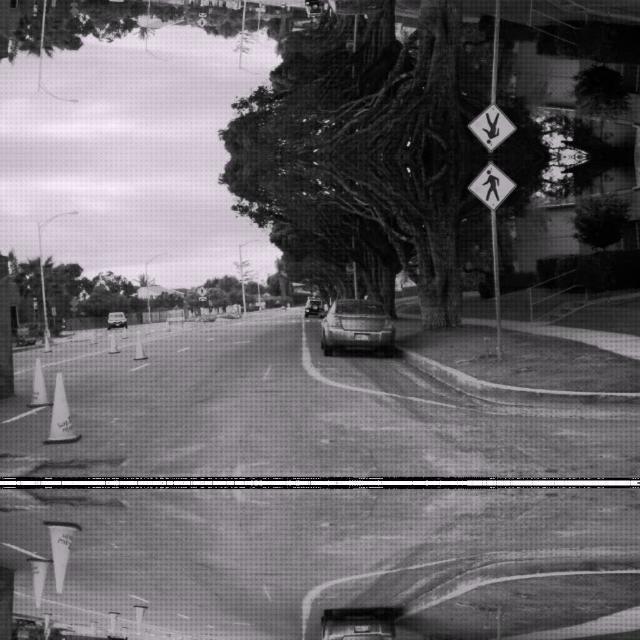pedestrianCrossing: (468, 160, 516, 210), (468, 102, 516, 152), (195, 285, 207, 297), (195, 15, 207, 27)
